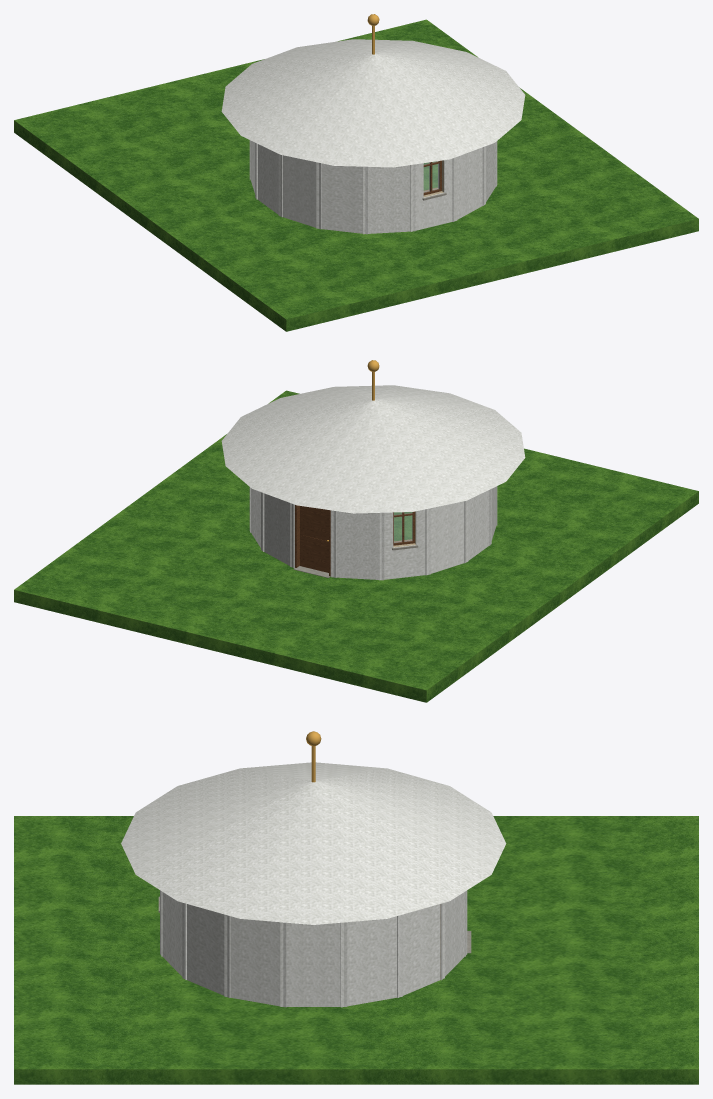
Rendered from b_mongol_yurt.gltf.
3 views of the same model, one above another, from view 1: azimuth 30°, elevation 25°; view 2: azimuth 150°, elevation 25°; view 3: azimuth 270°, elevation 25° (orthographic). The views are drawn at different scales.
Parts seen in each view (by area): view 1: S_mongol_yurt; view 2: S_mongol_yurt, D_mongol_yurt_F1_11_0_Door0; view 3: S_mongol_yurt.
Part boxes in pixels (<box>): S_mongol_yurt: <box>14,14,698,331</box>; S_mongol_yurt: <box>14,360,698,702</box>; D_mongol_yurt_F1_11_0_Door0: <box>300,506,328,572</box>; S_mongol_yurt: <box>14,731,698,1084</box>.
Size of the model in its own units: 14 by 5.83 by 16.
13 materials, 9 textured.
